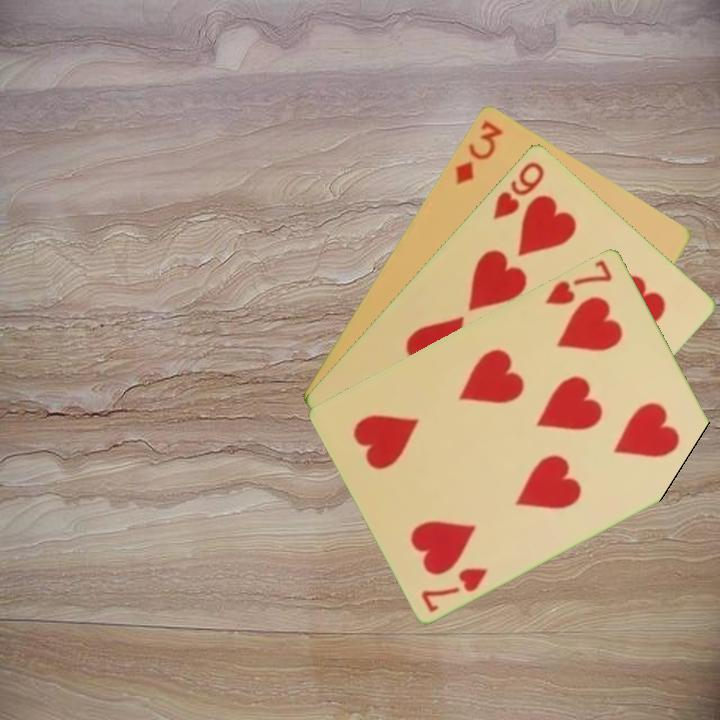3d: (451, 116, 506, 188)
7h: (417, 563, 492, 615), (541, 255, 615, 307)
9h: (489, 157, 547, 222)
